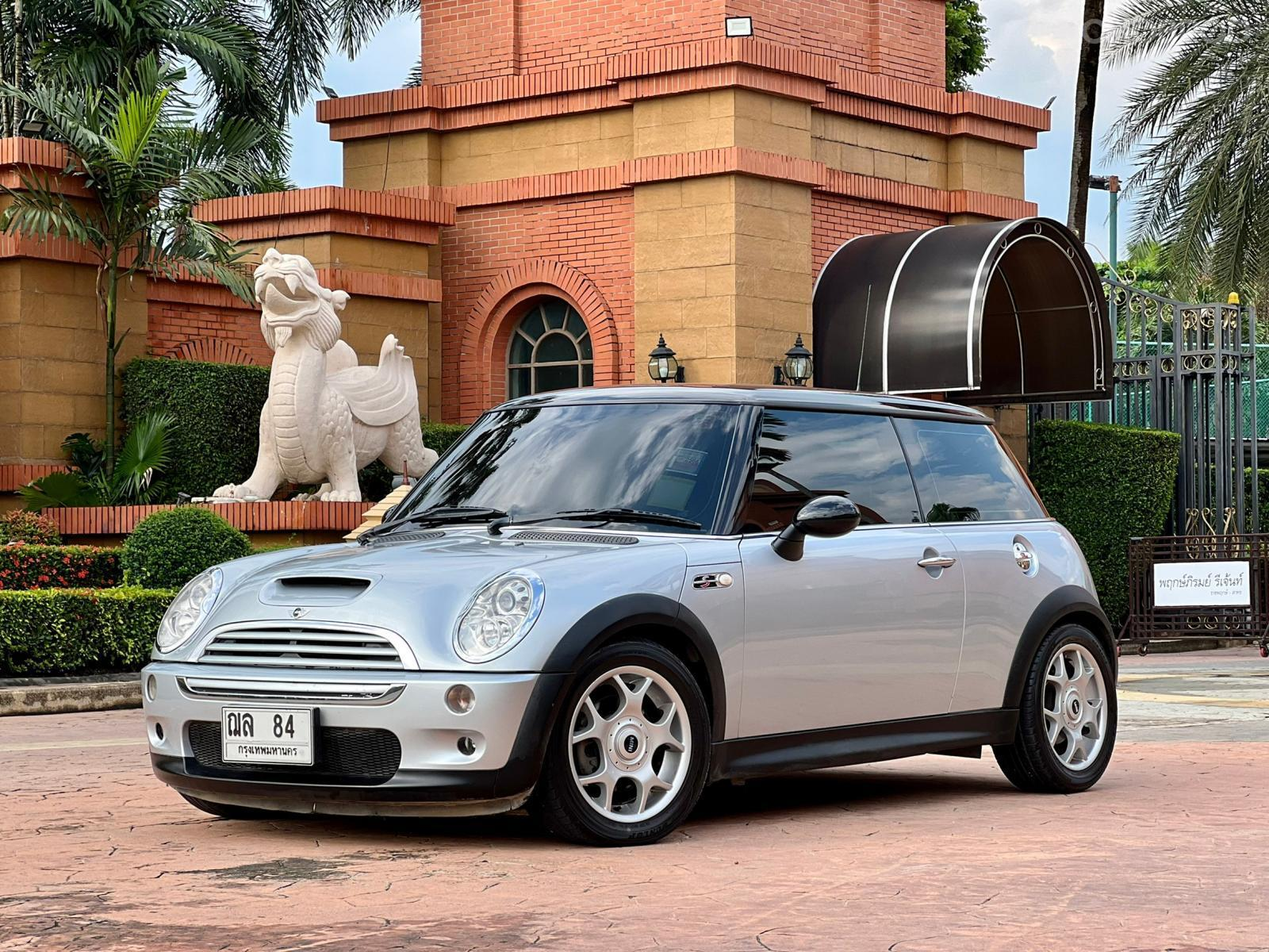license-plate: (217, 699, 318, 765)
